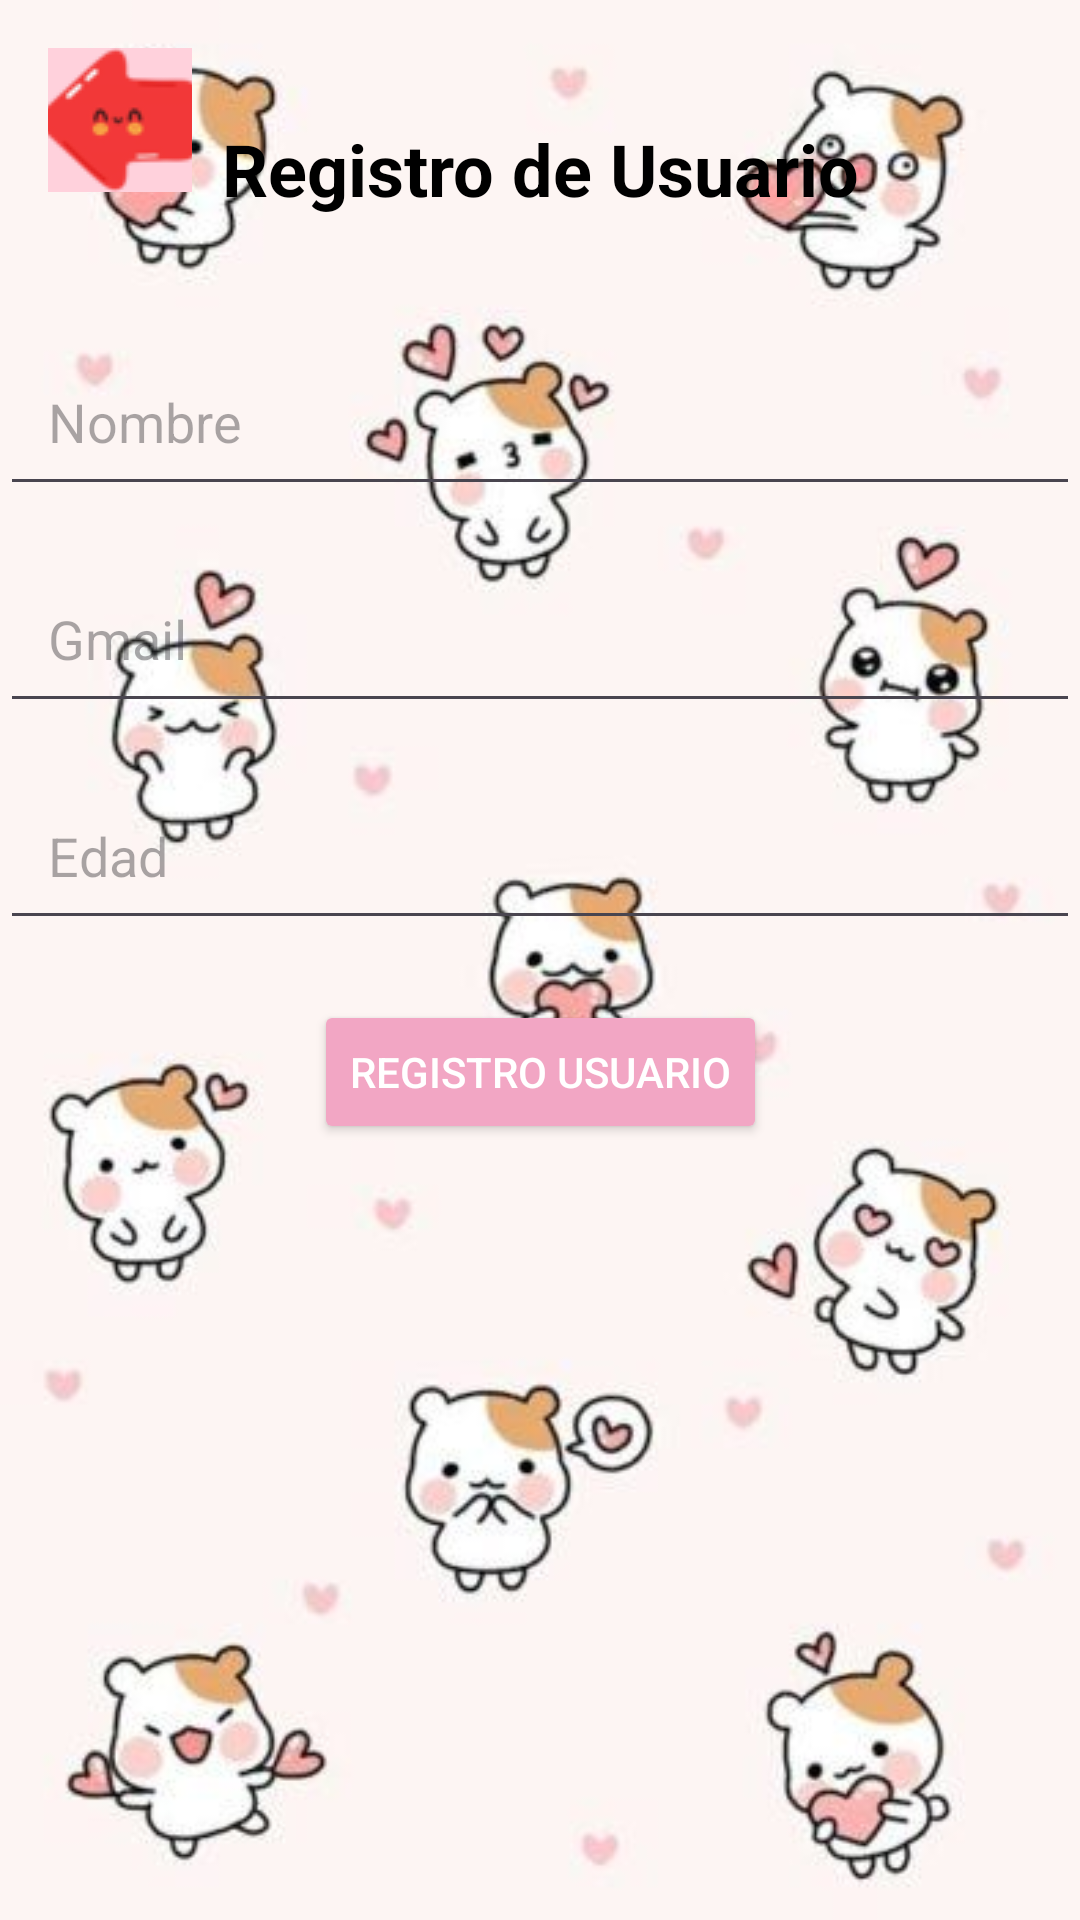

Screen size 1080px x 1920px. Icon name, then its box in pixels as (x1, y1, x2, y2):
Volver: (48, 48, 192, 192)
